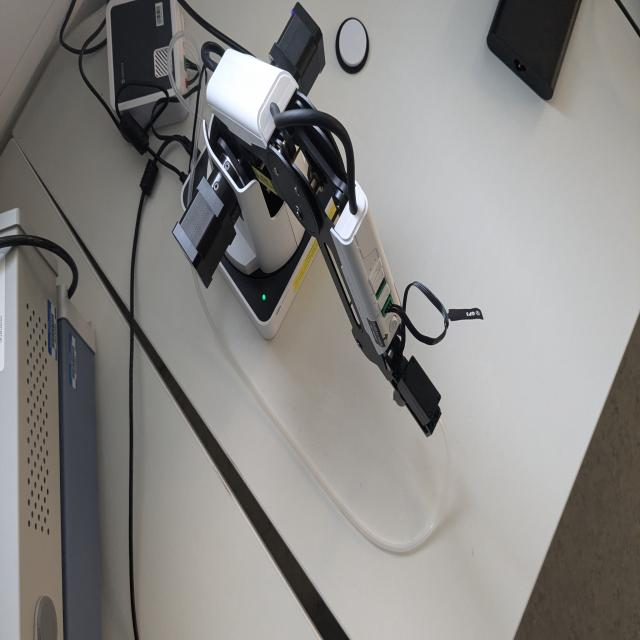Robot-end-effector-HF8z: (388, 352, 444, 440)
